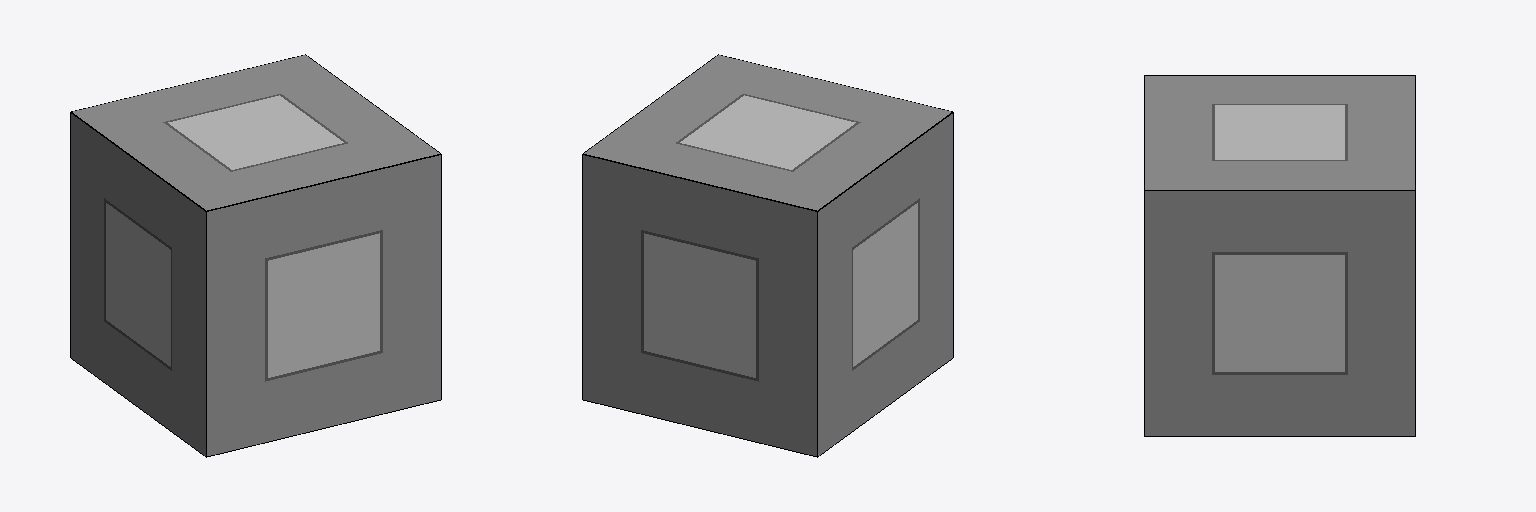
The picture shows the model from 3 angles: view 1: azimuth 30°, elevation 25°; view 2: azimuth 150°, elevation 25°; view 3: azimuth 270°, elevation 25°; orthographic projection.
Visible parts, largest first — view 1: Cube; view 2: Cube; view 3: Cube.
Part boxes in pixels (x1,y1,x2,y2): Cube: (70, 54, 441, 457); Cube: (582, 54, 953, 457); Cube: (1144, 75, 1415, 436).
Size of the model in its own units: 1 by 1 by 1.
1 materials, 1 textured.